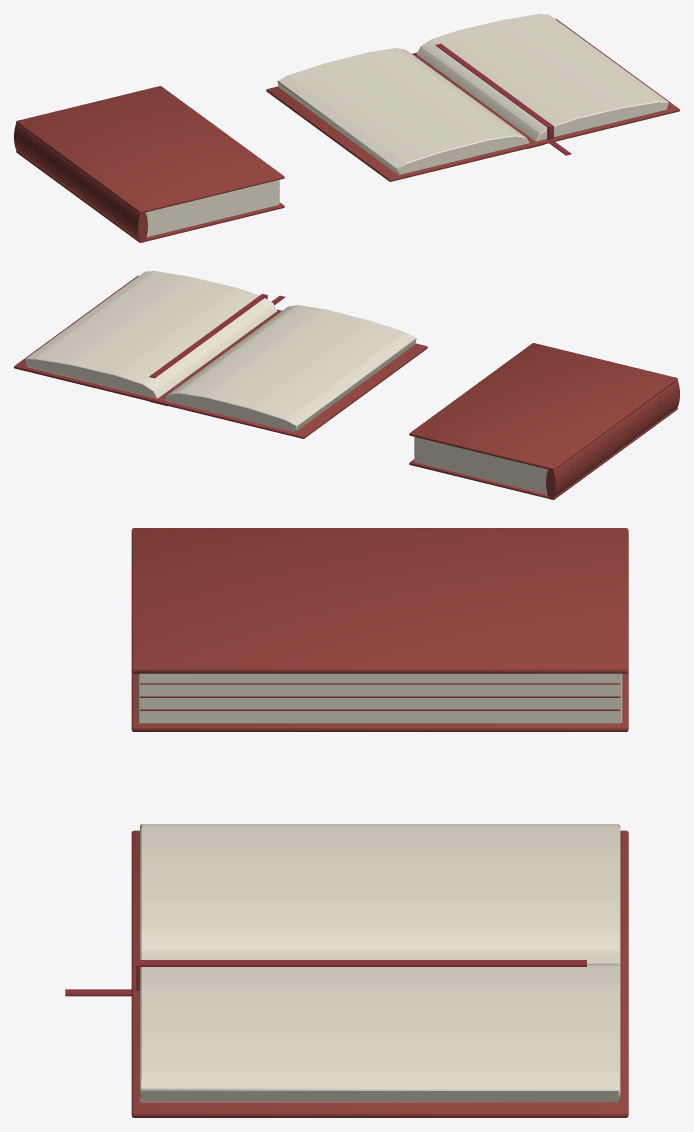
Rendered from Book.fbx.
3 renders of one model, top to bottom at view 1: azimuth 30°, elevation 25°; view 2: azimuth 150°, elevation 25°; view 3: azimuth 270°, elevation 25°, orthographic. The views are drawn at different scales.
Parts seen in each view (by area): view 1: Book_Open_Mesh, Book_Mesh; view 2: Book_Open_Mesh, Book_Mesh; view 3: Book_Open_Mesh, Book_Mesh.
Part boxes in pixels (<box>): Book_Open_Mesh: <box>266,14,679,181</box>; Book_Mesh: <box>14,86,284,242</box>; Book_Open_Mesh: <box>14,271,427,438</box>; Book_Mesh: <box>409,343,679,499</box>; Book_Open_Mesh: <box>65,824,628,1117</box>; Book_Mesh: <box>131,528,628,731</box>.
Size of the model in its own units: 0.6053 by 0.034 by 0.272.
